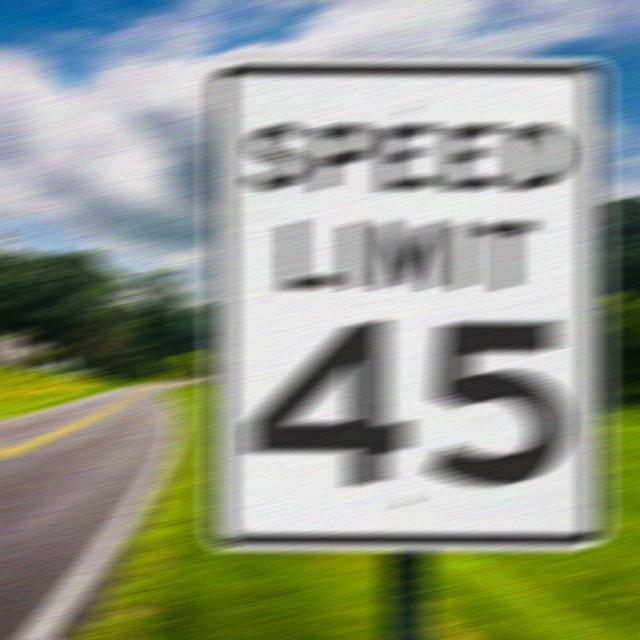speedLimit45: (203, 57, 613, 551)
